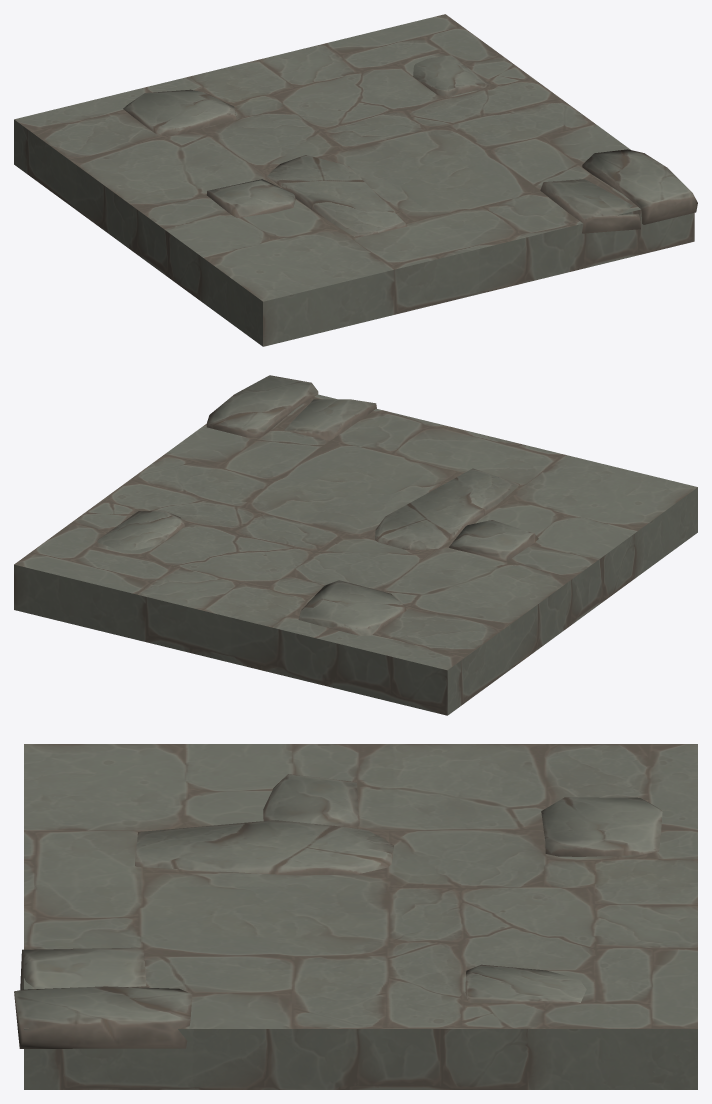
Rendered from SM_FW01_Ruins_Int_Floor_2x2_01.fbx.
The picture shows the model from 3 angles, top to bottom: view 1: azimuth 30°, elevation 25°; view 2: azimuth 150°, elevation 25°; view 3: azimuth 270°, elevation 25°; orthographic projection. The views are drawn at different scales.
Visible parts, largest first — view 1: SM_FW01_Ruins_Int_Floor_2x2_01, SM_FW01_Ruins_Int_Floor_2x2_01_LOD0; view 2: SM_FW01_Ruins_Int_Floor_2x2_01, SM_FW01_Ruins_Int_Floor_2x2_01_LOD0; view 3: SM_FW01_Ruins_Int_Floor_2x2_01, SM_FW01_Ruins_Int_Floor_2x2_01_LOD0.
Part boxes in pixels (left/top/right/bottom): SM_FW01_Ruins_Int_Floor_2x2_01: left=14, top=14, right=694, bottom=346; SM_FW01_Ruins_Int_Floor_2x2_01_LOD0: left=123, top=55, right=697, bottom=237; SM_FW01_Ruins_Int_Floor_2x2_01: left=14, top=394, right=697, bottom=715; SM_FW01_Ruins_Int_Floor_2x2_01_LOD0: left=97, top=375, right=538, bottom=635; SM_FW01_Ruins_Int_Floor_2x2_01: left=24, top=744, right=697, bottom=1089; SM_FW01_Ruins_Int_Floor_2x2_01_LOD0: left=14, top=774, right=662, bottom=1048.
Size of what is drawn, in the model's own units: 2.01 by 0.2421 by 2.03.
